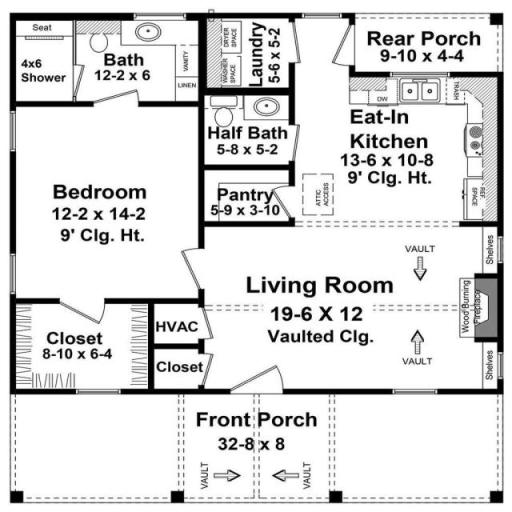bathroom: (22, 22, 196, 102)
bedroom: (32, 118, 184, 298)
closet: (24, 310, 150, 388)
hall: (214, 230, 502, 405)
kitchen: (320, 97, 512, 215)
laundary: (212, 17, 314, 92)
porch: (40, 400, 488, 493), (368, 20, 505, 84)
